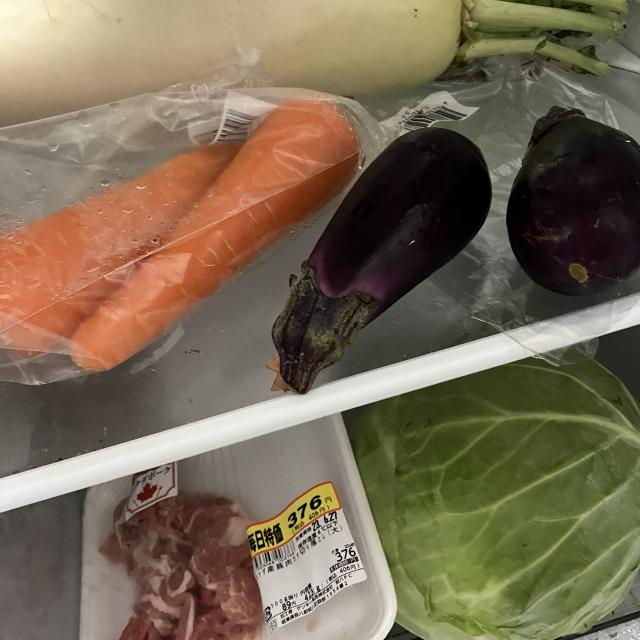cabbage: (352, 344, 640, 640)
carrot: (67, 94, 364, 377), (0, 134, 246, 368)
eggplant: (269, 126, 493, 396), (505, 104, 640, 302)
